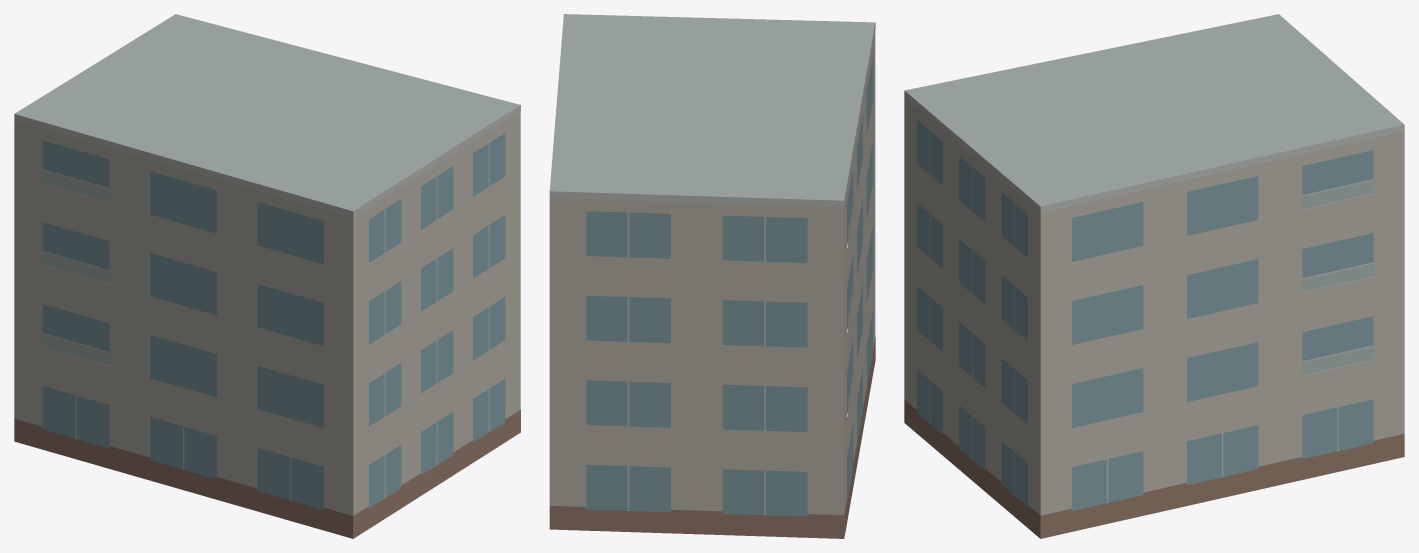
Rendered from survey-upis-32763977.glb.
The picture shows the model from 3 angles, left to right: view 1: azimuth 30°, elevation 25°; view 2: azimuth 150°, elevation 25°; view 3: azimuth 270°, elevation 25°; orthographic projection. The views are drawn at different scales.
Parts seen in each view (by area): view 1: survey-upis-32763977.tmp; view 2: survey-upis-32763977.tmp; view 3: survey-upis-32763977.tmp.
Part boxes in pixels (x1,y1,x2,y2): survey-upis-32763977.tmp: (14, 14, 520, 538); survey-upis-32763977.tmp: (549, 14, 875, 538); survey-upis-32763977.tmp: (904, 14, 1404, 538).
Size of the model in its own units: 15.17 by 12.2 by 16.65.
